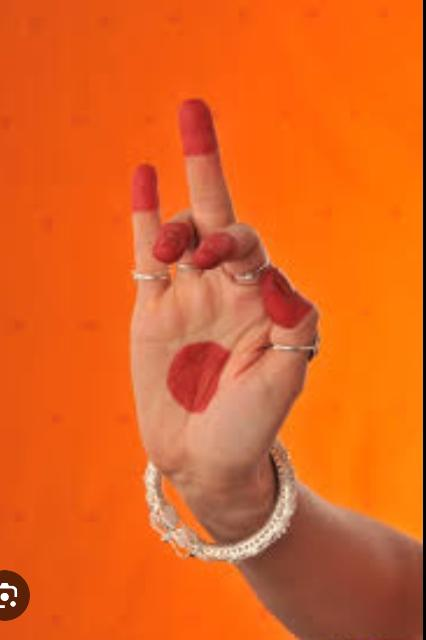shuktund: (131, 99, 321, 564)
